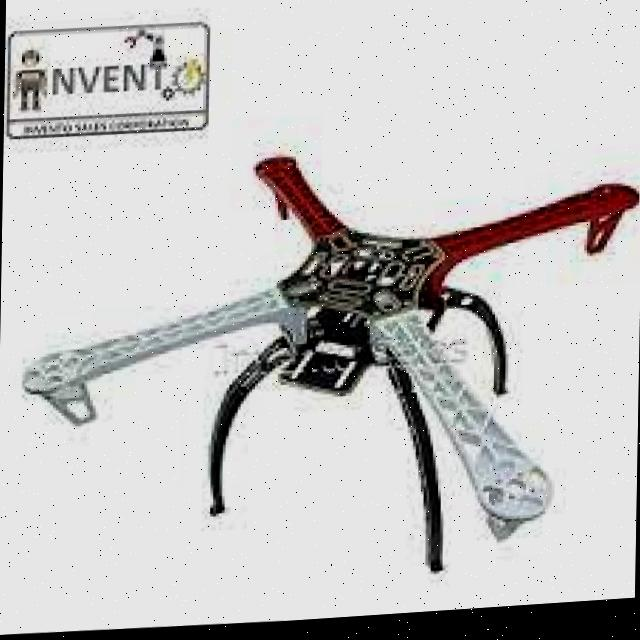drone: (22, 131, 634, 572)
